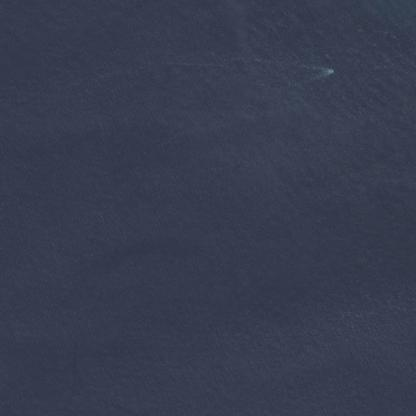ship: (325, 67, 333, 72)
